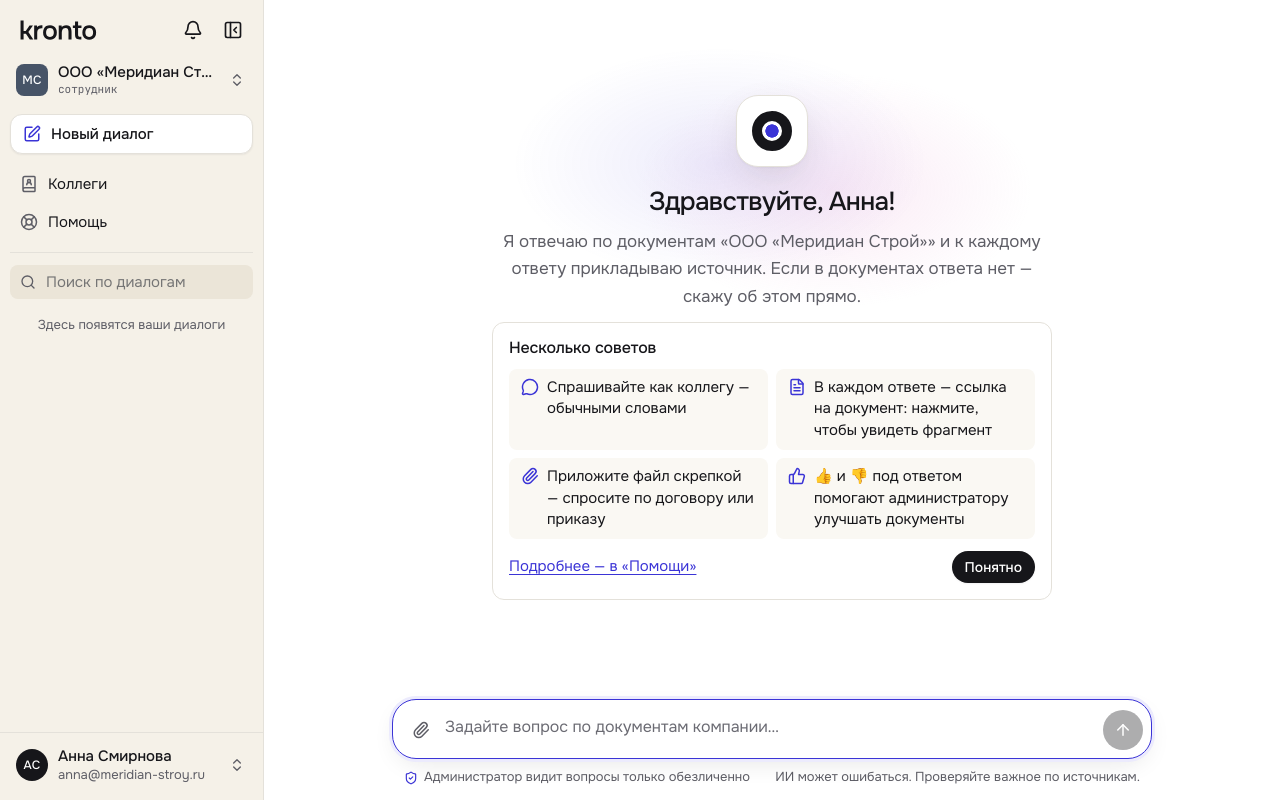
подсказки сотруднику › показывает советы и прячет их по «Понятно», не дожидаясь сервера
Expected: the list items read "Спрашивайте как коллегу — обычными словами", "В каждом ответе — ссылка на документ: нажмите, чтобы увидеть фрагмент", "Приложите файл скрепкой — спросите по договору или приказу", "👍 и 👎 под ответом помогают администратору улучшать документы", in this order, 509,369 -> 768,450; 776,369 -> 1035,450; 509,458 -> 768,539; 776,458 -> 1035,539
Click the button "Понятно" at [993, 567], box 952,551 -> 1035,583
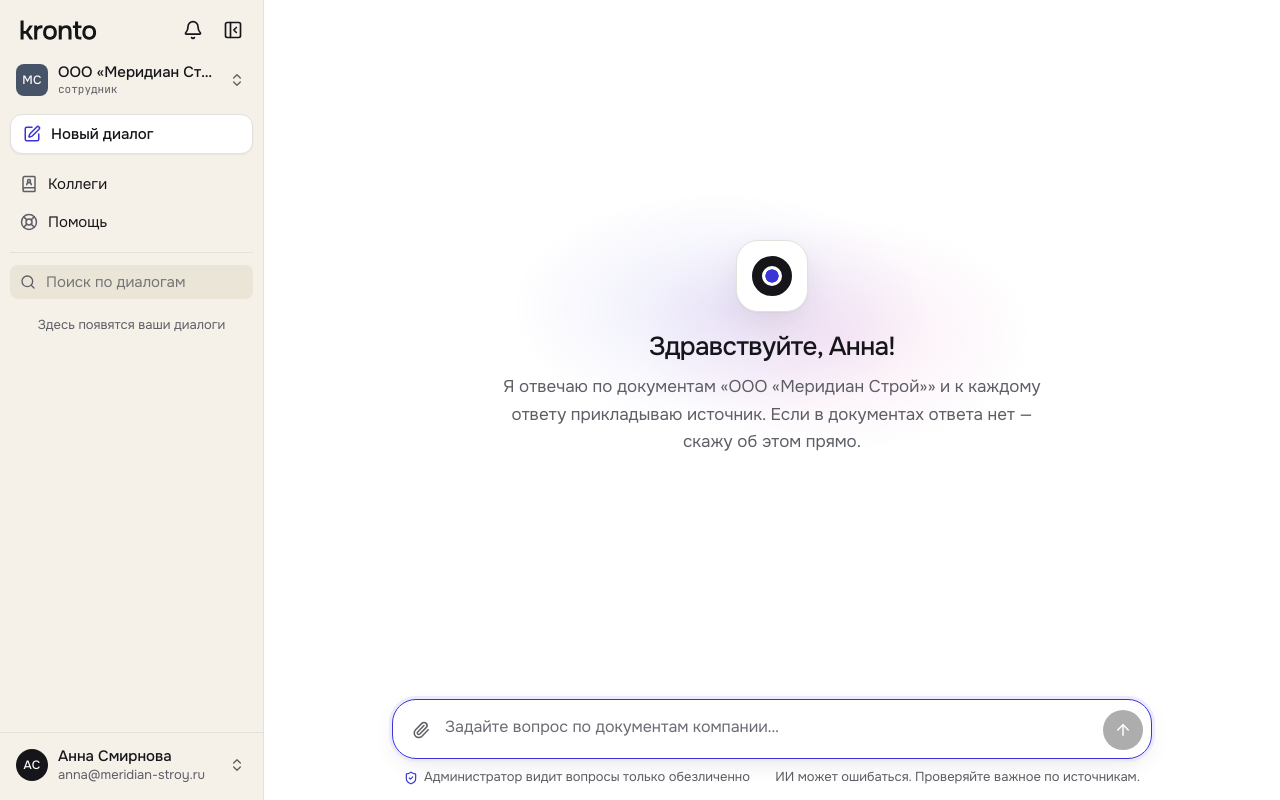
Expected: the heading "Несколько советов" is gone
